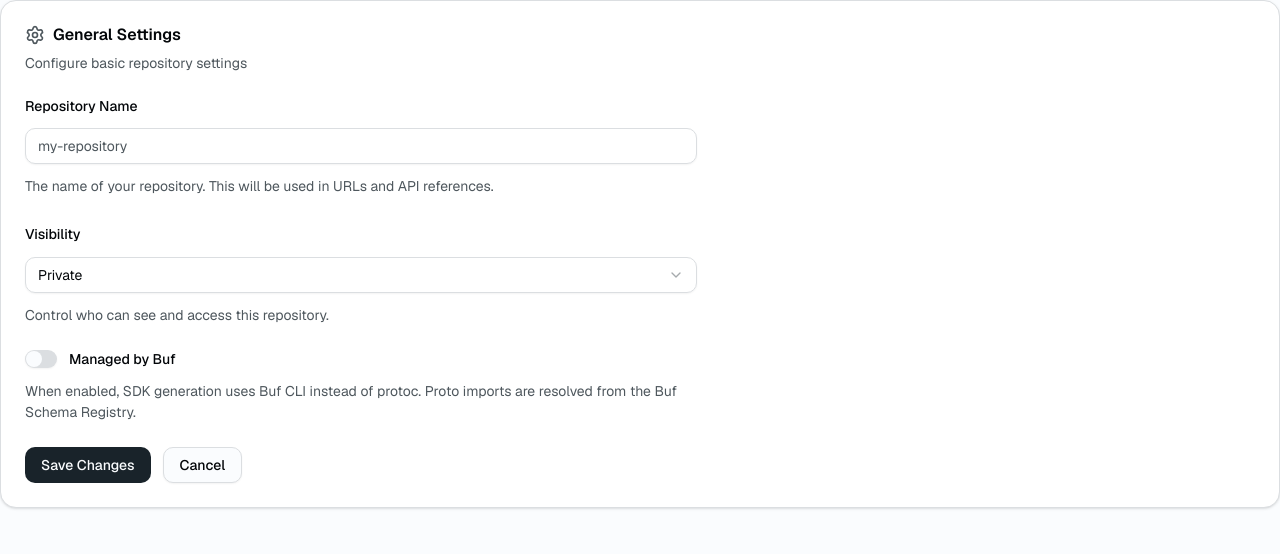
Scenario: RepositorySettingsForm › Form Reset › clears validation errors when form is reset
The image size is (1280, 554).
Click the button "Save Changes" at (88, 465), box [25,447,151,483]
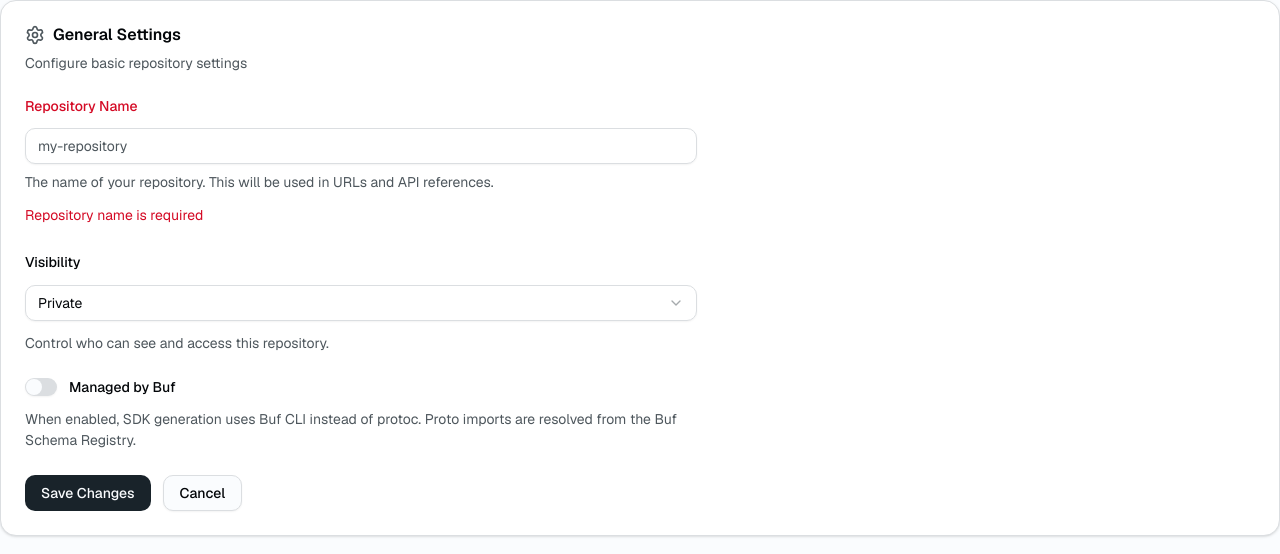
Result: the text "Repository name is required" is shown at [25,206,203,224]
Click the button "Cancel" at (202, 493), box [163,475,242,511]
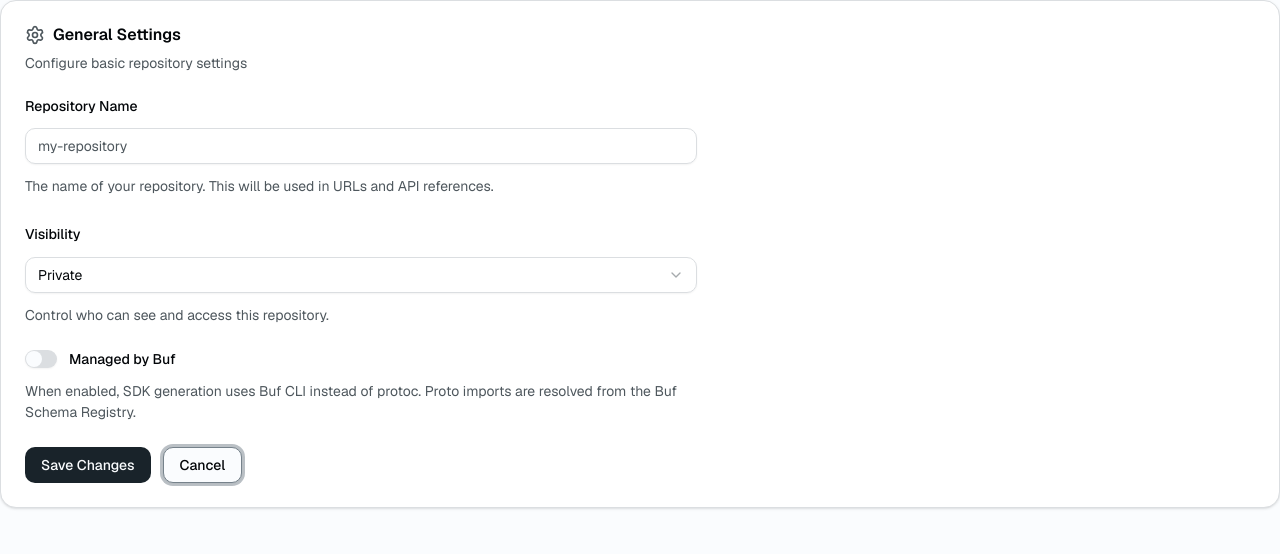
Result: the text "Repository name is required" is gone
